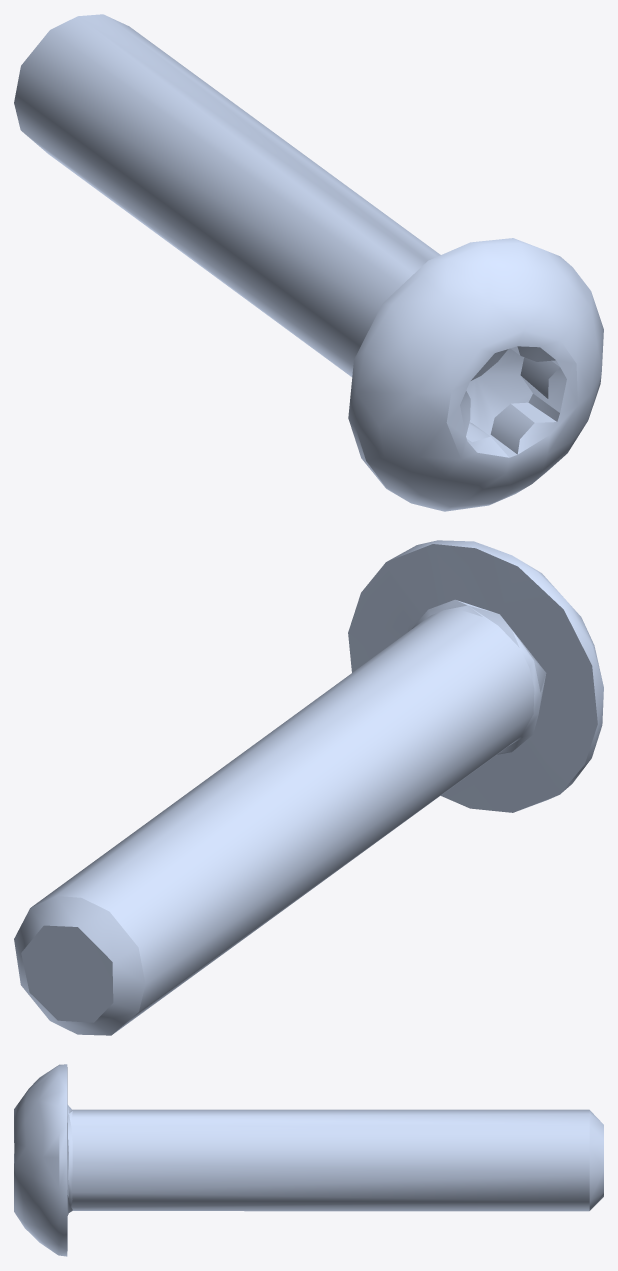
The model's file is _8-32_x_7_8_Star_Drive_Screw__276-4995_.glb.
3 views of the same model, one above another, from view 1: azimuth 30°, elevation 25°; view 2: azimuth 150°, elevation 25°; view 3: azimuth 270°, elevation 25° (orthographic). The views are drawn at different scales.
Parts seen in each view (by area): view 1: #8-32 x 7_8 Star Drive Screw (276-4995); view 2: #8-32 x 7_8 Star Drive Screw (276-4995); view 3: #8-32 x 7_8 Star Drive Screw (276-4995).
Boxes of the visible parts, x1,y1,x2,y2 form: #8-32 x 7_8 Star Drive Screw (276-4995): (14, 14, 603, 511); #8-32 x 7_8 Star Drive Screw (276-4995): (14, 540, 603, 1035); #8-32 x 7_8 Star Drive Screw (276-4995): (14, 1064, 603, 1256).
Size of the model in its own units: 0.3123 by 0.3131 by 0.9623.
